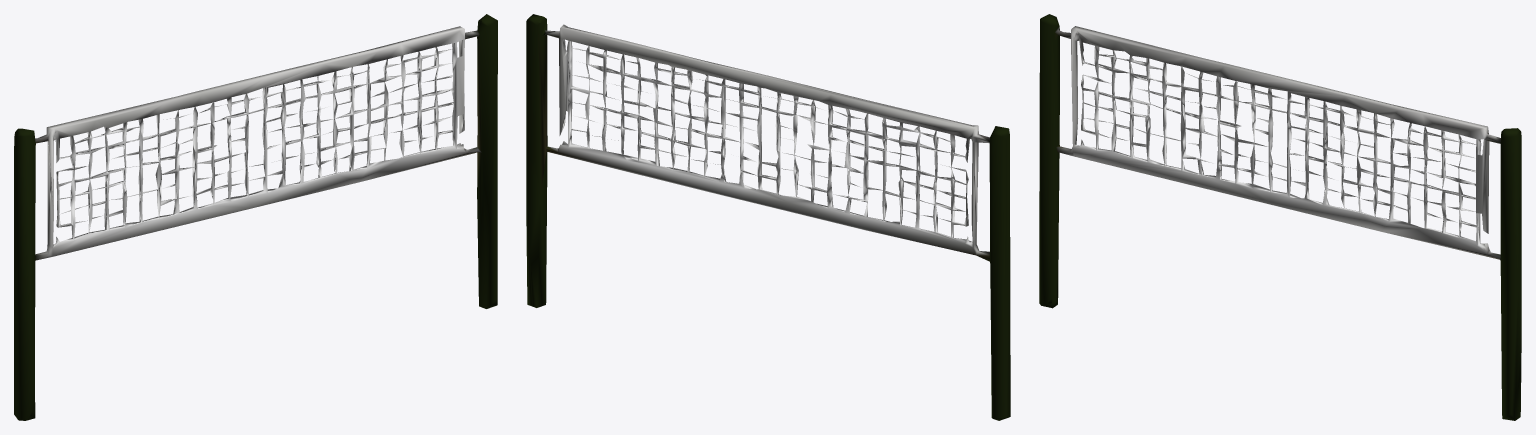
The model's file is gen3d-volleyball-net-lod1.glb.
3 renders of one model, left to right at view 1: azimuth 30°, elevation 25°; view 2: azimuth 150°, elevation 25°; view 3: azimuth 330°, elevation 25°, orthographic.
Visible parts, largest first — view 1: part_0; view 2: part_0; view 3: part_0.
Part boxes in pixels (x1,y1,x2,y2): part_0: [14, 14, 497, 420]; part_0: [526, 14, 1010, 420]; part_0: [1039, 14, 1521, 420].
Bounding box in the file's own units: 1.74 × 0.9988 × 0.0608.
